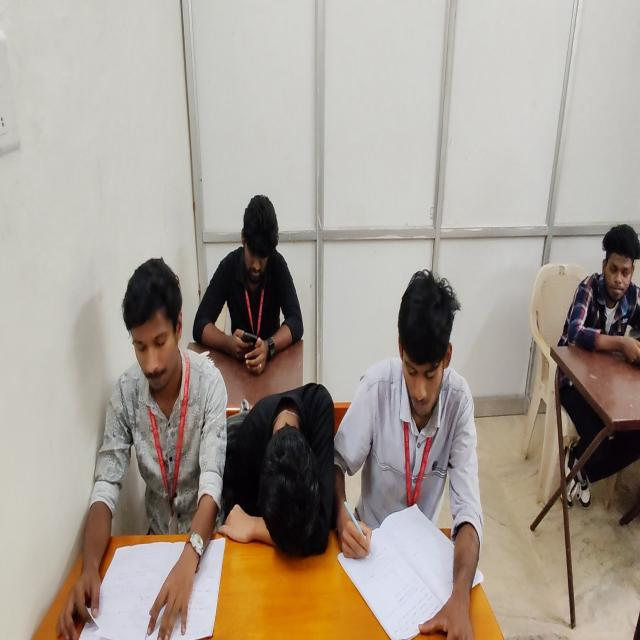listening: (554, 219, 640, 511)
reading: (58, 258, 230, 640)
sleeping: (220, 381, 332, 560)
using_mobile: (192, 193, 304, 372)
writing: (339, 265, 478, 640)
